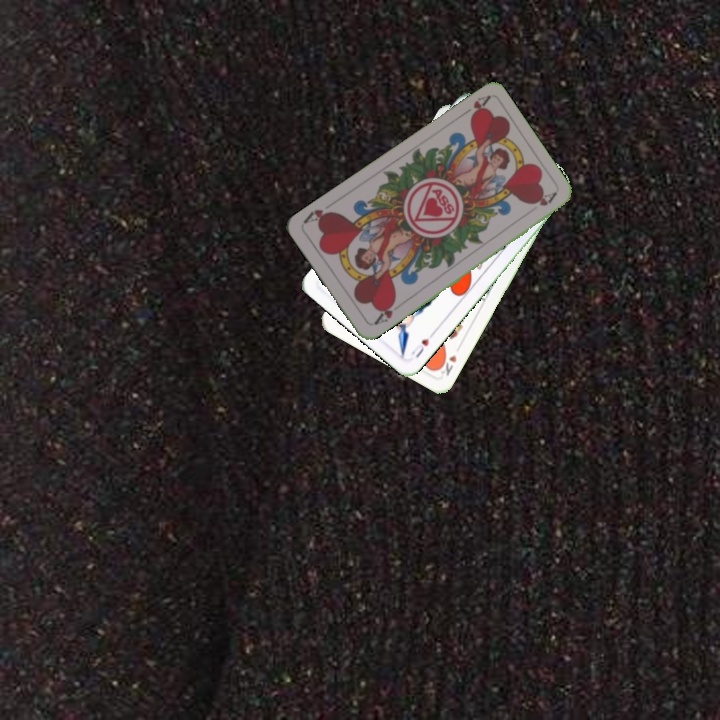HA: (370, 296, 404, 328), (455, 92, 492, 121)
HK: (434, 350, 459, 378)
HU: (407, 328, 437, 360)
